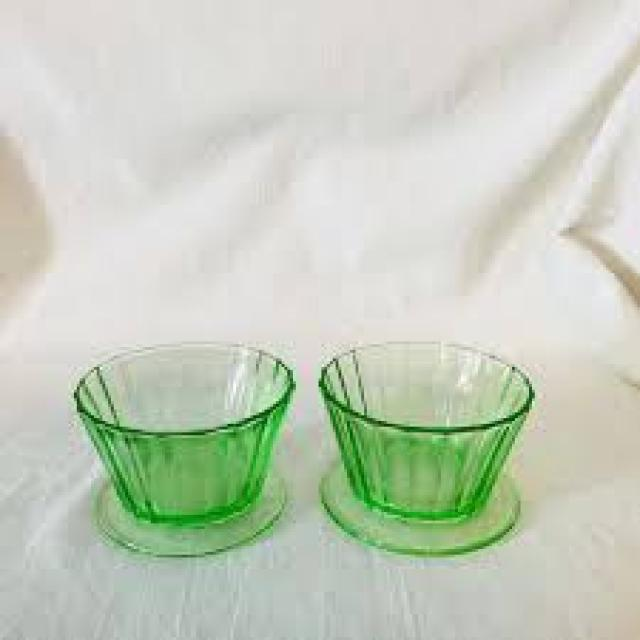glass: (71, 339, 293, 555), (316, 338, 535, 552)
